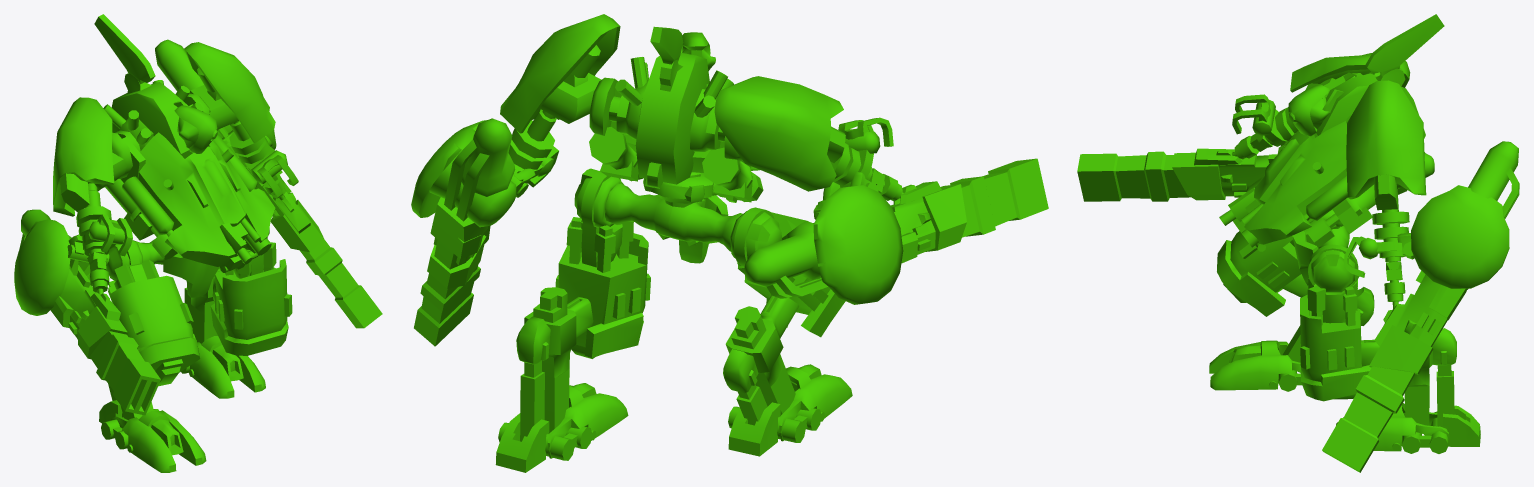
The model's file is robot.obj.
The picture shows the model from 3 angles, left to right: view 1: azimuth 30°, elevation 25°; view 2: azimuth 150°, elevation 25°; view 3: azimuth 270°, elevation 25°; orthographic projection. The views are drawn at different scales.
Visible parts, largest first — view 1: robot; view 2: robot; view 3: robot.
Boxes of the visible parts, <box> form: robot: <box>14,14,382,472</box>; robot: <box>411,14,1048,472</box>; robot: <box>1077,14,1519,472</box>.
Bounding box in the file's own units: 17.38 × 16.22 × 16.96.
